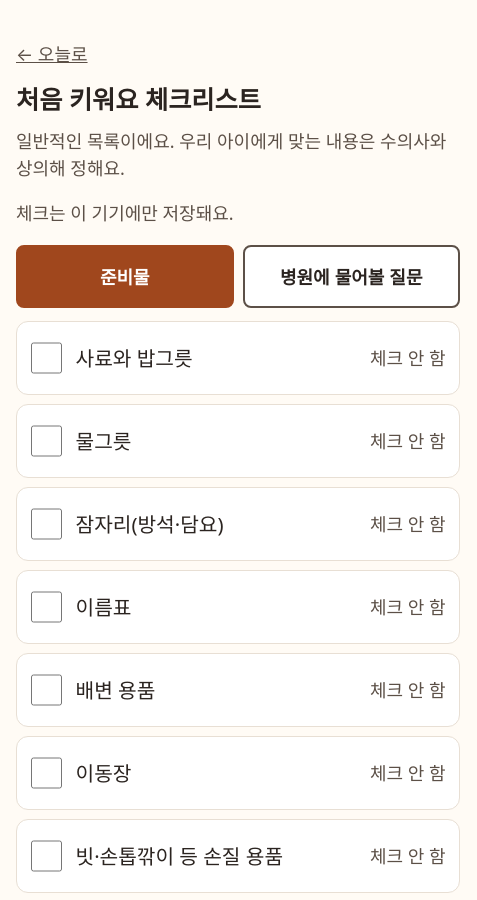
Scenario: /checklist 화면 › 탭 전환: 질문 탭에는 질문만, 개 항목만 보인다
Click the tab "병원에 물어볼 질문" at (351, 276), box [242,245,460,308]
(page scrolled)
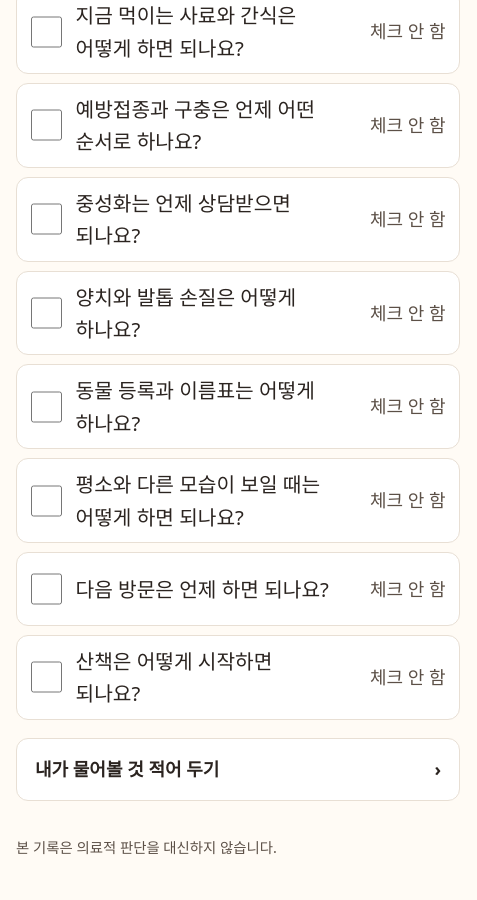
Expected: the checkbox labelled "산책은 어떻게 시작하면 되나요?" is shown, [30,650,62,704]
Expected: the number of checkboxes is 8
Expected: the text "물그릇" is gone
